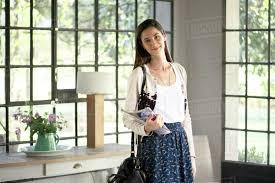FallenBody: (116, 17, 196, 183)
